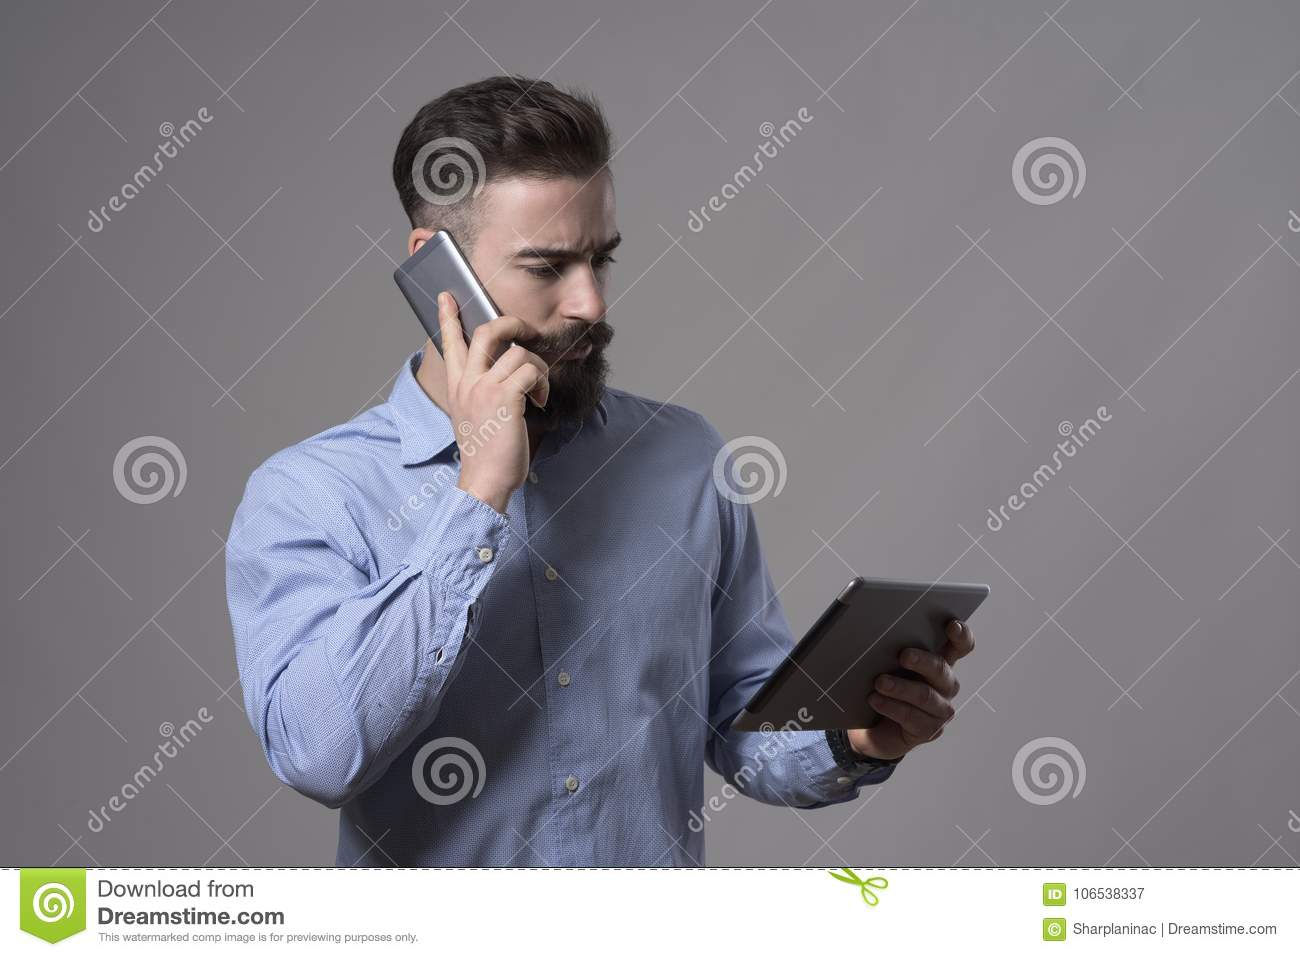phone: (396, 229, 523, 396)
talk: (393, 219, 626, 502)
